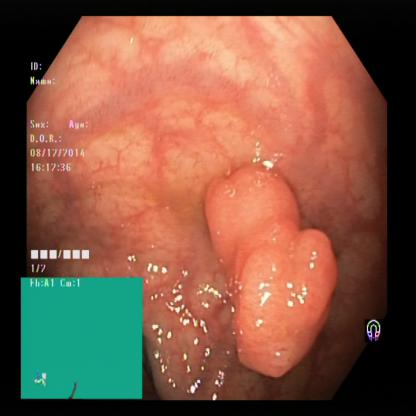Labels: (20, 246, 144, 404), (28, 60, 95, 179), (360, 312, 392, 353)
Polyps: (204, 165, 332, 377)
